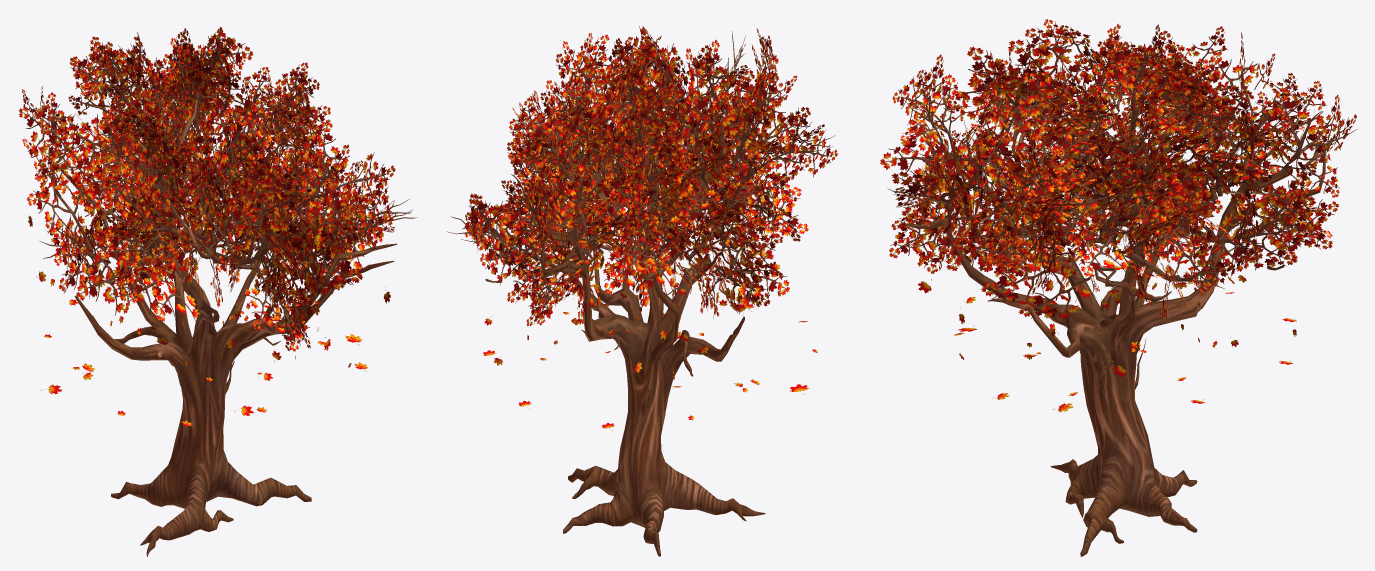
3 renders of one model, left to right at view 1: azimuth 30°, elevation 25°; view 2: azimuth 150°, elevation 25°; view 3: azimuth 270°, elevation 25°, orthographic. The views are drawn at different scales.
Visible parts, largest first — view 1: Tree_with_Falling_Leaves.002_5; view 2: Tree_with_Falling_Leaves.002_5; view 3: Tree_with_Falling_Leaves.002_5.
Boxes of the visible parts, <box> form: Tree_with_Falling_Leaves.002_5: <box>18,27,417,556</box>; Tree_with_Falling_Leaves.002_5: <box>447,26,837,556</box>; Tree_with_Falling_Leaves.002_5: <box>880,19,1357,556</box>.
Bounding box in the file's own units: 22.88 × 32.99 × 30.07.
3 materials, 3 textured.
